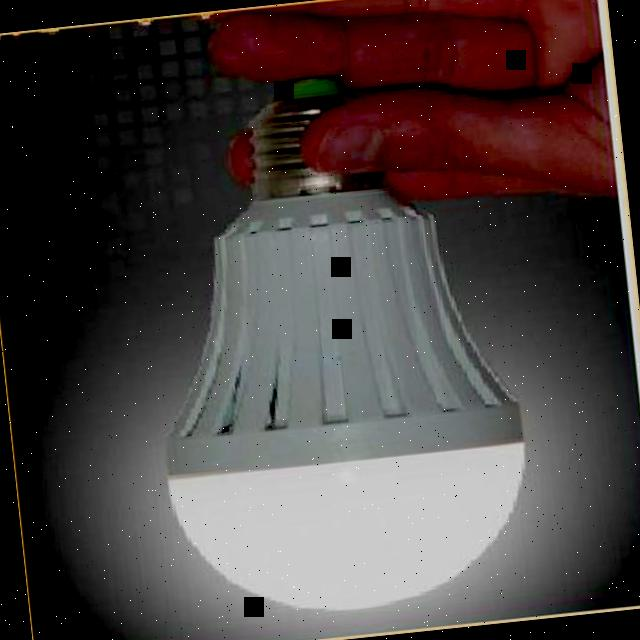light_bulb: (119, 51, 546, 635)
